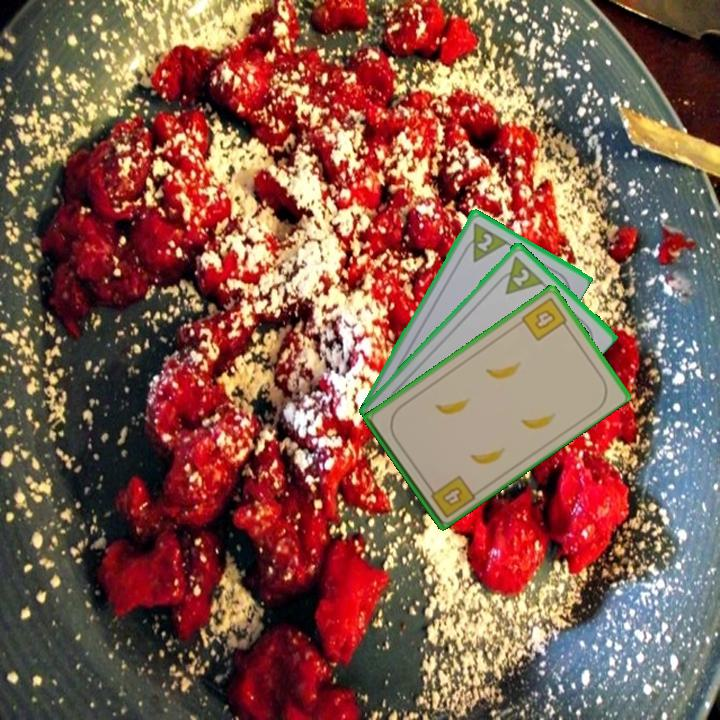2p: (458, 218, 510, 265), (492, 251, 545, 297)
4b: (518, 293, 572, 344), (424, 471, 478, 521)
